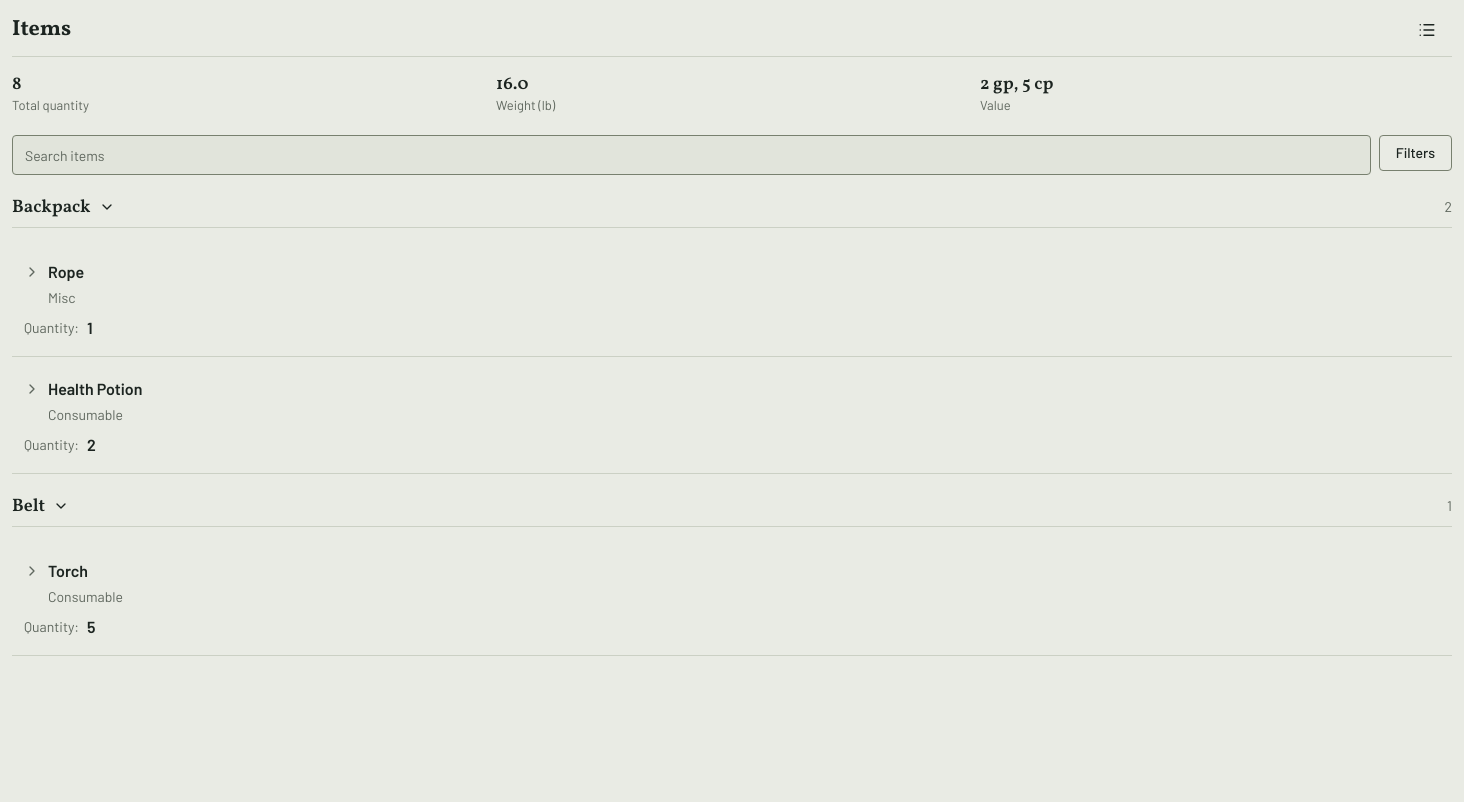
Test: InventoryManager › shows and hides row details with the manager detail toggle
Expected: the text "10 lb" is not shown
Click the button named "Show item details" at (1427, 30), box [1402,12,1452,48]
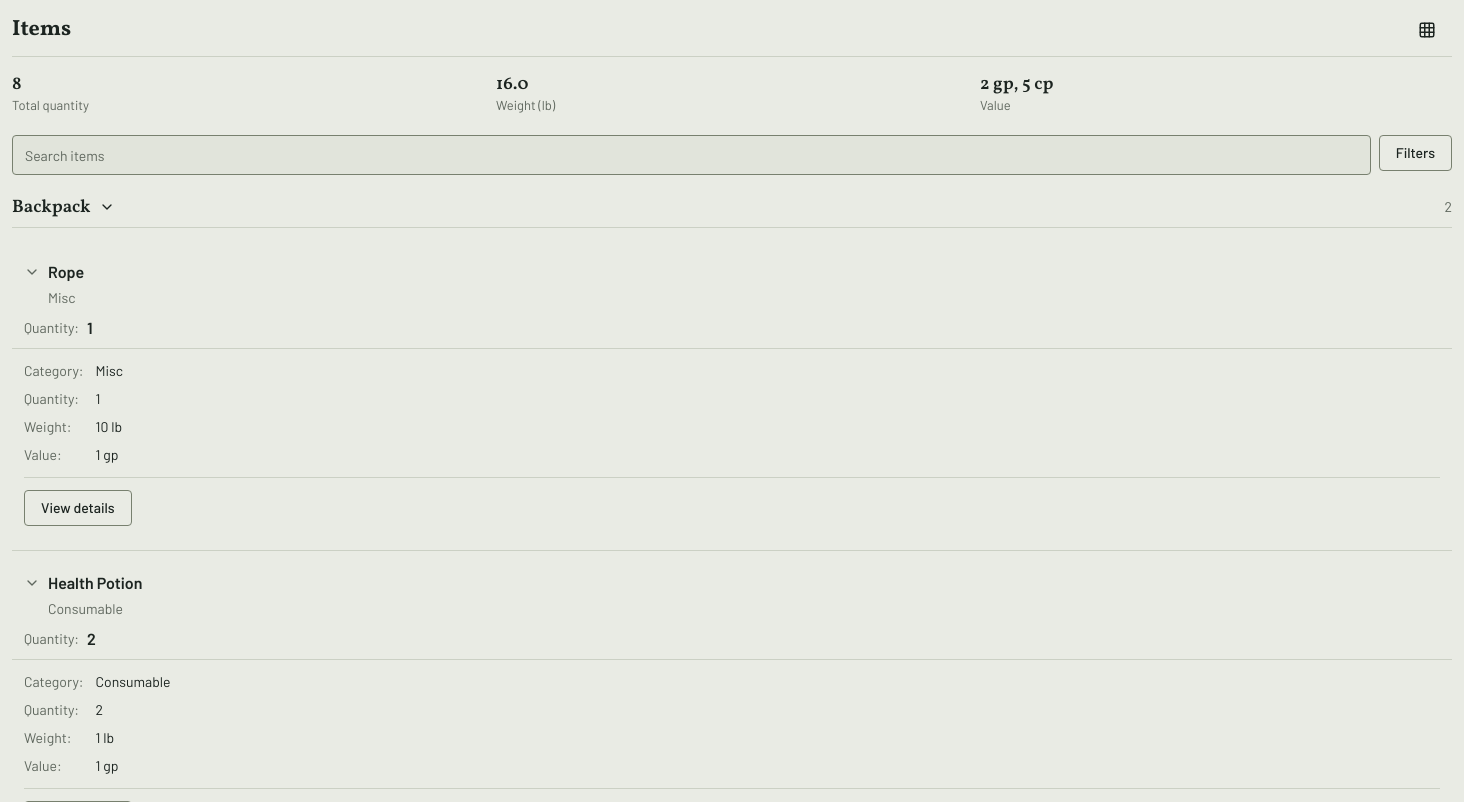
Expected: the text "10 lb" is shown, [96,418,122,435]
Expected: the button with aria-label "Details: Rope" is expanded, [12,252,1452,316]
Click the button named "Show item details" at (1427, 30), box [1402,12,1452,48]
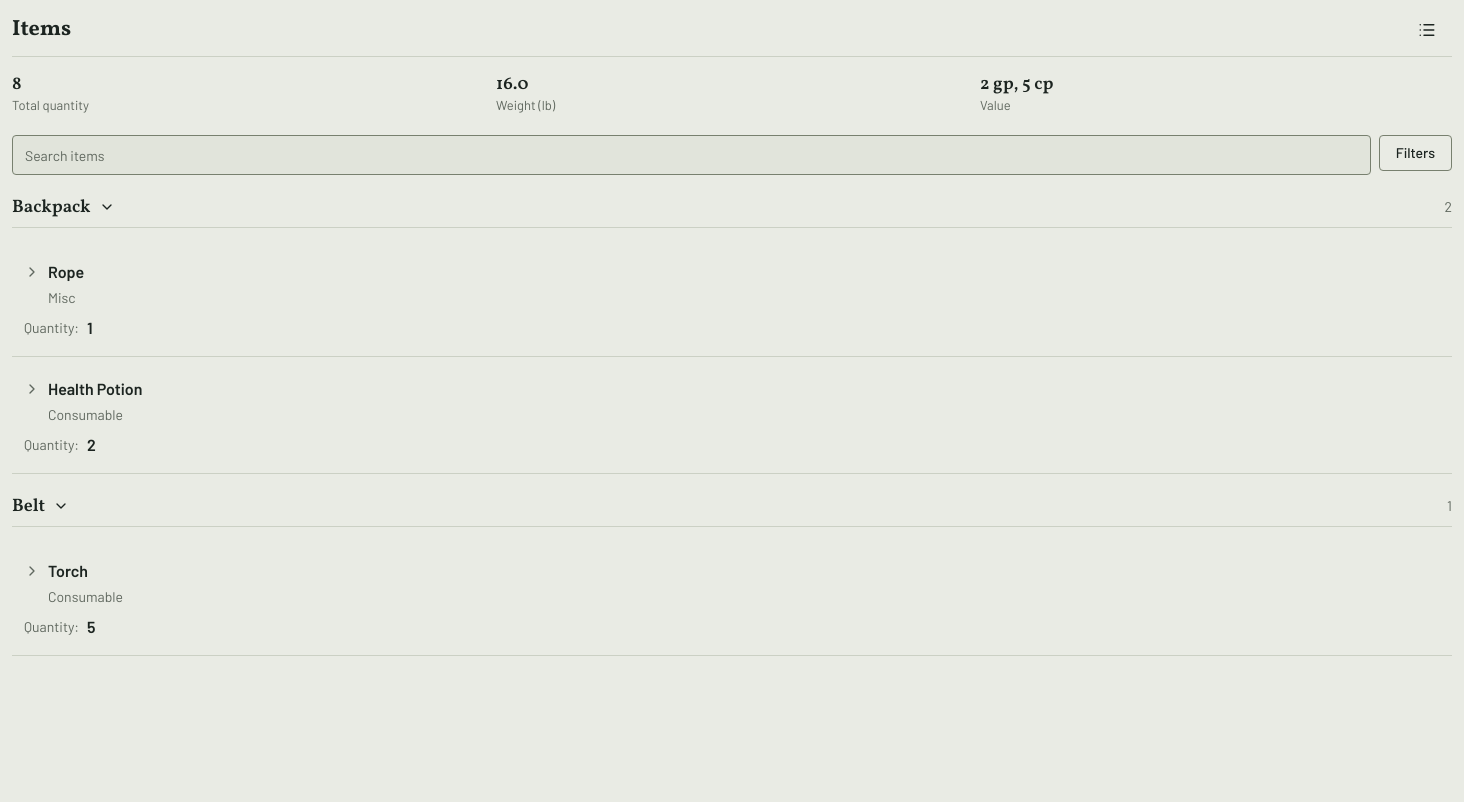
Expected: the text "10 lb" is gone
